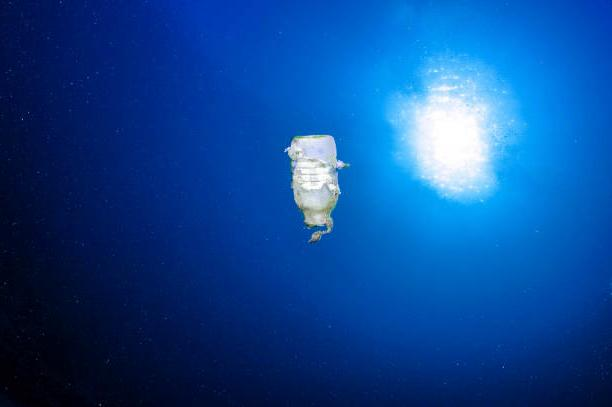Plastic: (286, 132, 343, 239)
